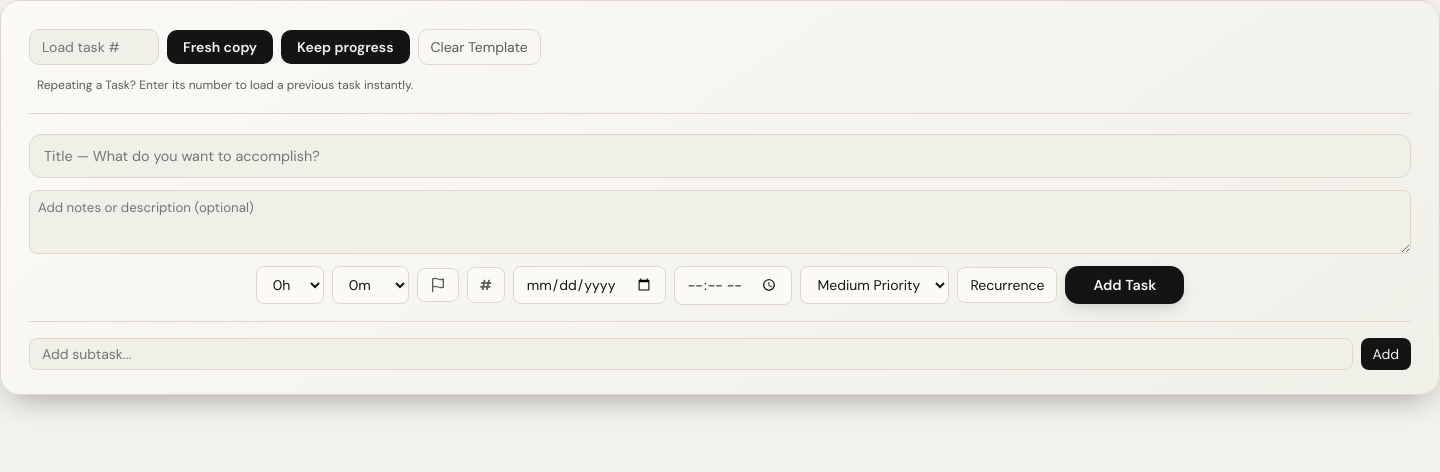
Test: Composer type-ahead suggestions › completed-subtask task: the row copies fresh (subtasks unchecked); Keep progress is offered
Type "Weekly" into the dropdown named "Task title".
click(720, 156); type("Weekly")  # box [29,134,1411,178]
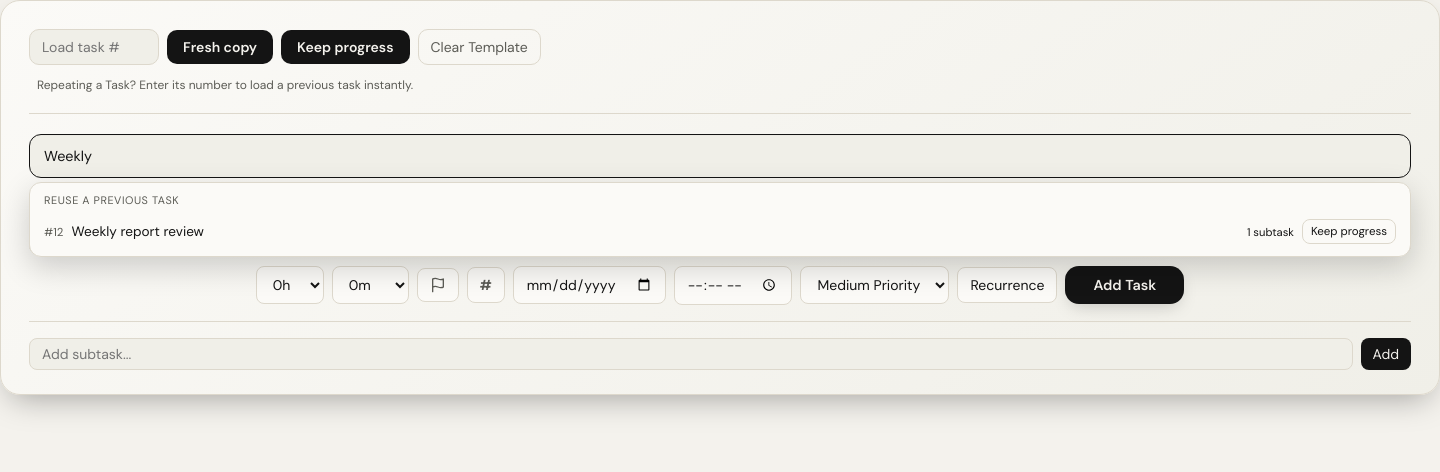
Now the text "Weekly report review" is shown, box [72,223,204,240]
Now the button "Keep progress" in the row of "12" is shown, box [1302,219,1396,244]
// Clicking the whole row copies fresh — the subtask carries over unchecked.
Click the option "#12 Weekly report review 1 subtask Keep progress".
click(138, 232)  # box [34,211,1406,252]
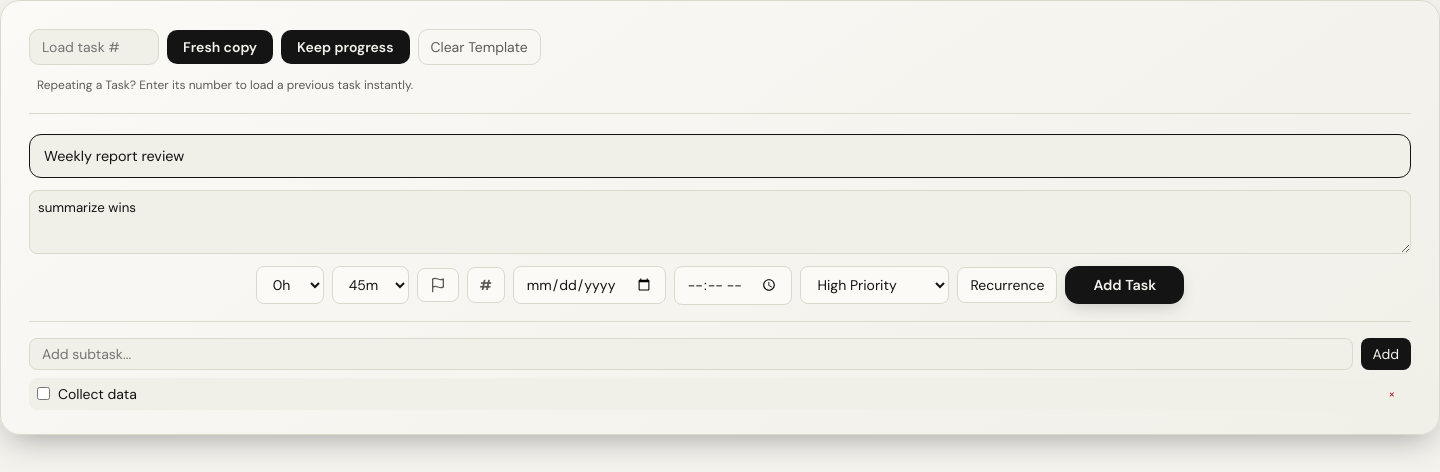
Now the dropdown named "Task title" holds "Weekly report review", box [29,134,1411,178]
Now the text box named "Task description" holds "summarize wins", box [29,190,1411,254]
Now the checkbox named "Toggle subtask Collect data" is not checked, box [37,387,50,400]
